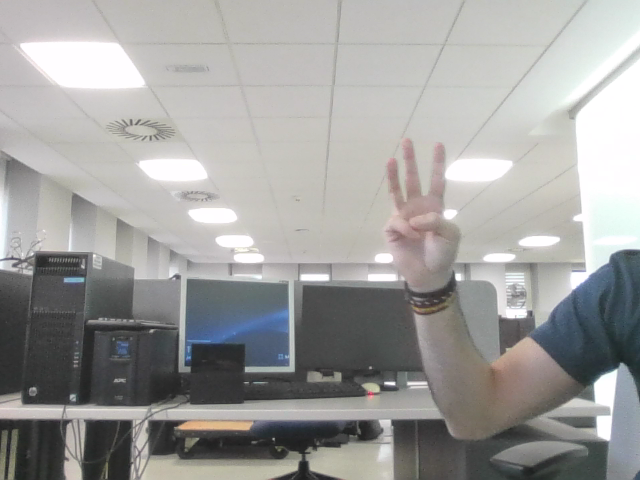3Dedos: (393, 149, 450, 253)
